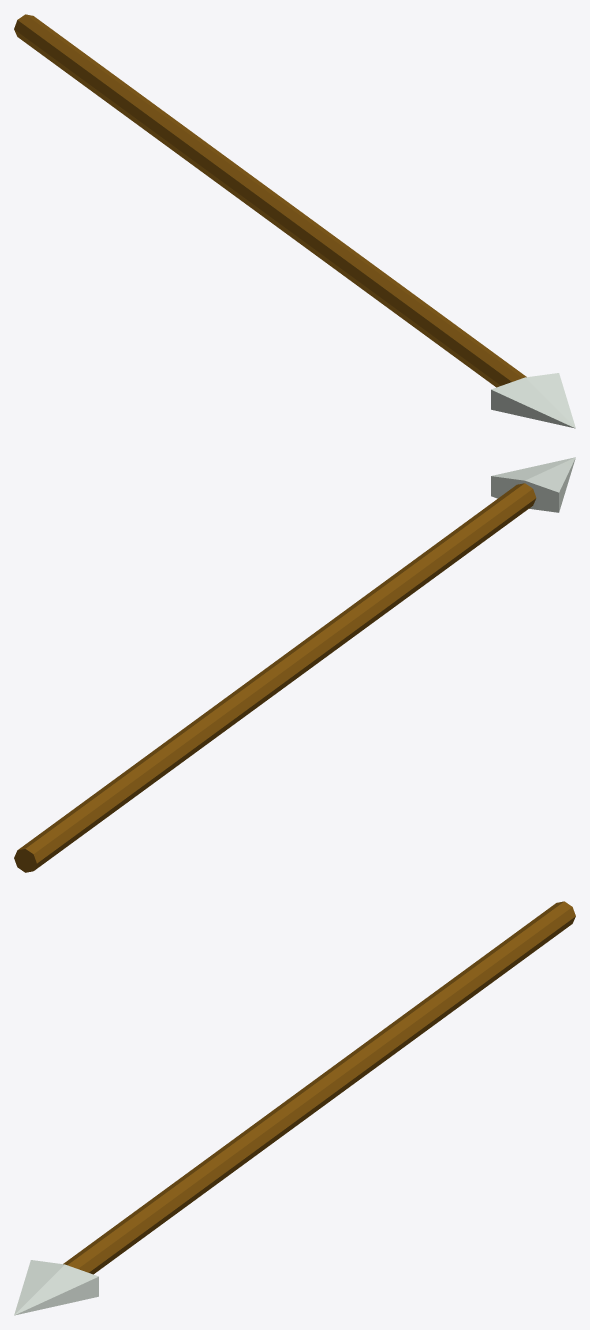
Rendered from Arrow.fbx.
3 renders of one model, top to bottom at view 1: azimuth 30°, elevation 25°; view 2: azimuth 150°, elevation 25°; view 3: azimuth 330°, elevation 25°, orthographic.
Parts seen in each view (by area): view 1: Arrow; view 2: Arrow; view 3: Arrow.
Boxes of the visible parts, x1,y1,x2,y2 form: Arrow: (14, 14, 575, 428); Arrow: (14, 457, 575, 872); Arrow: (14, 901, 575, 1315).
Bounding box in the file's own units: 7.33 × 2.83 × 102.
Materials: 1 (1 with a texture image).
